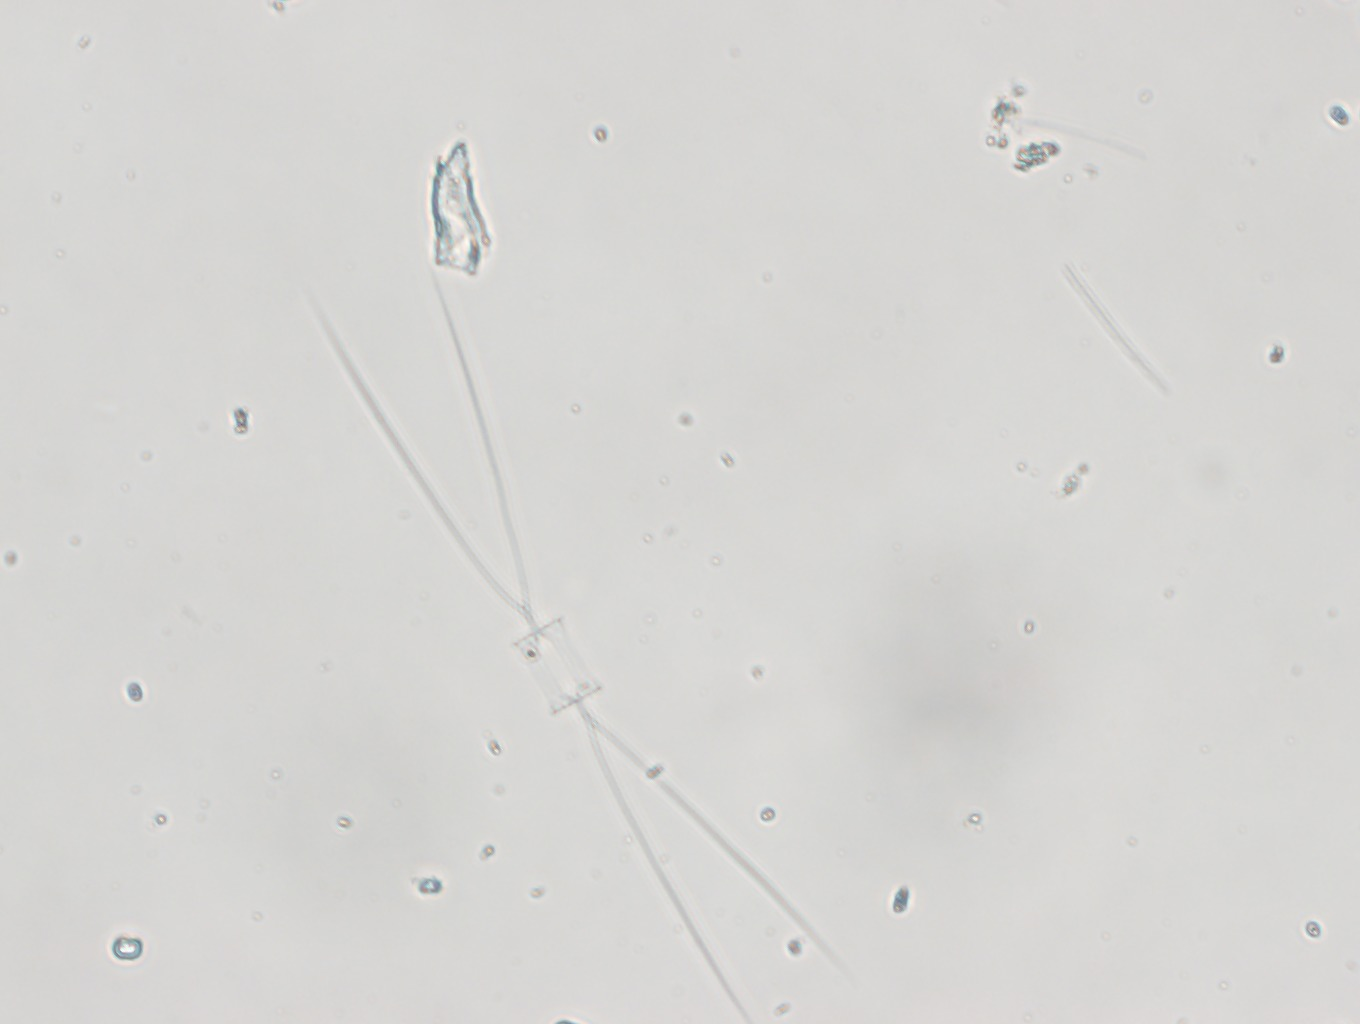chaetoceros: (287, 264, 853, 1024)
